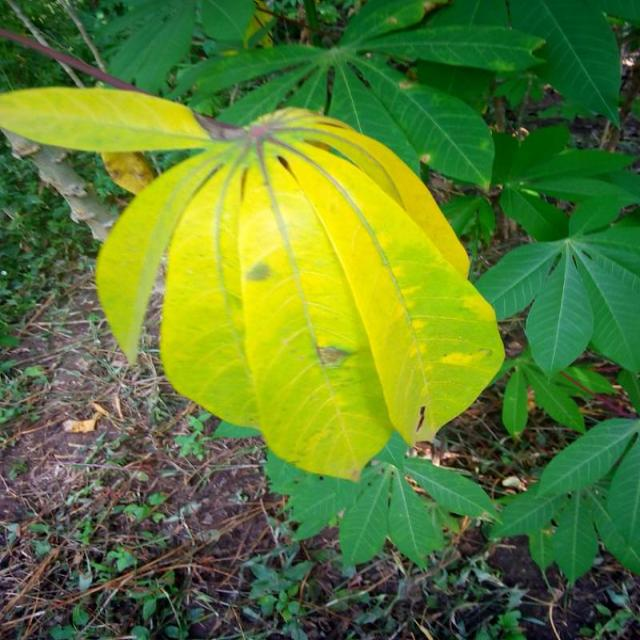cassava leaf: (1, 83, 506, 482)
